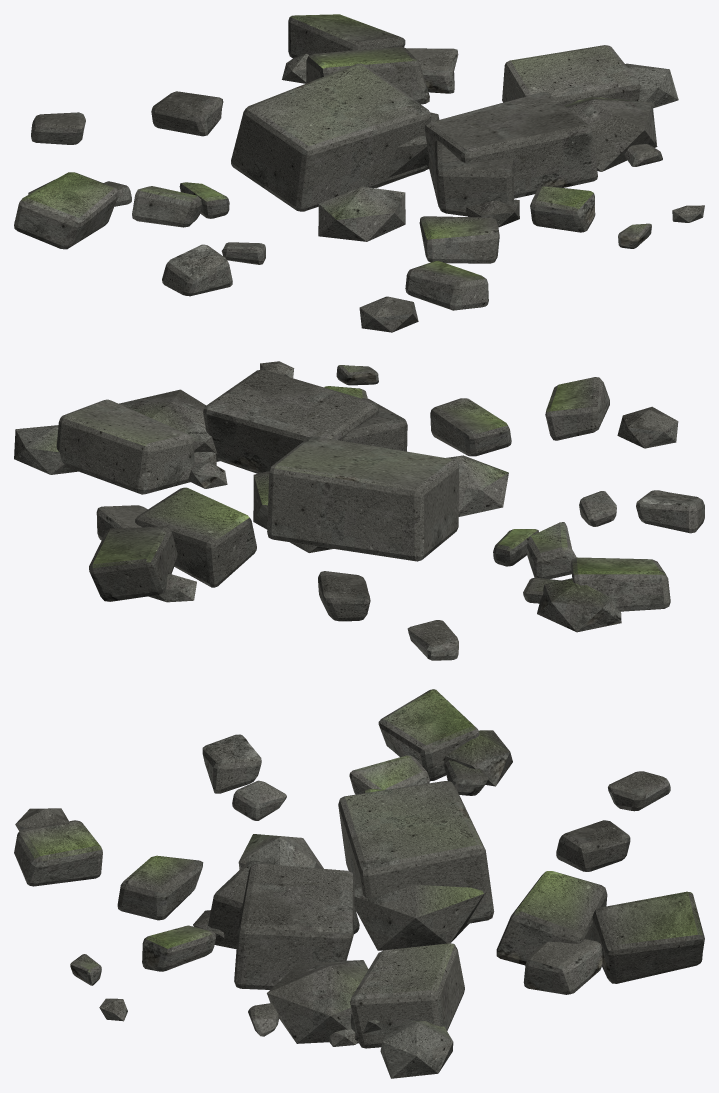
File: ER_Gravats_Moussus.gltf
3 renders of one model, top to bottom at view 1: azimuth 30°, elevation 25°; view 2: azimuth 150°, elevation 25°; view 3: azimuth 270°, elevation 25°, orthographic. The views are drawn at different scales.
Parts seen in each view (by area): view 1: ER_Gravats_Moussus_P.001; view 2: ER_Gravats_Moussus_P.001; view 3: ER_Gravats_Moussus_P.001.
Boxes of the visible parts, <box> form: ER_Gravats_Moussus_P.001: <box>14,14,704,332</box>; ER_Gravats_Moussus_P.001: <box>14,361,704,660</box>; ER_Gravats_Moussus_P.001: <box>14,689,704,1078</box>.
Size of the model in its own units: 2.15 by 0.3207 by 1.81.
Materials: 1 (1 with a texture image).
